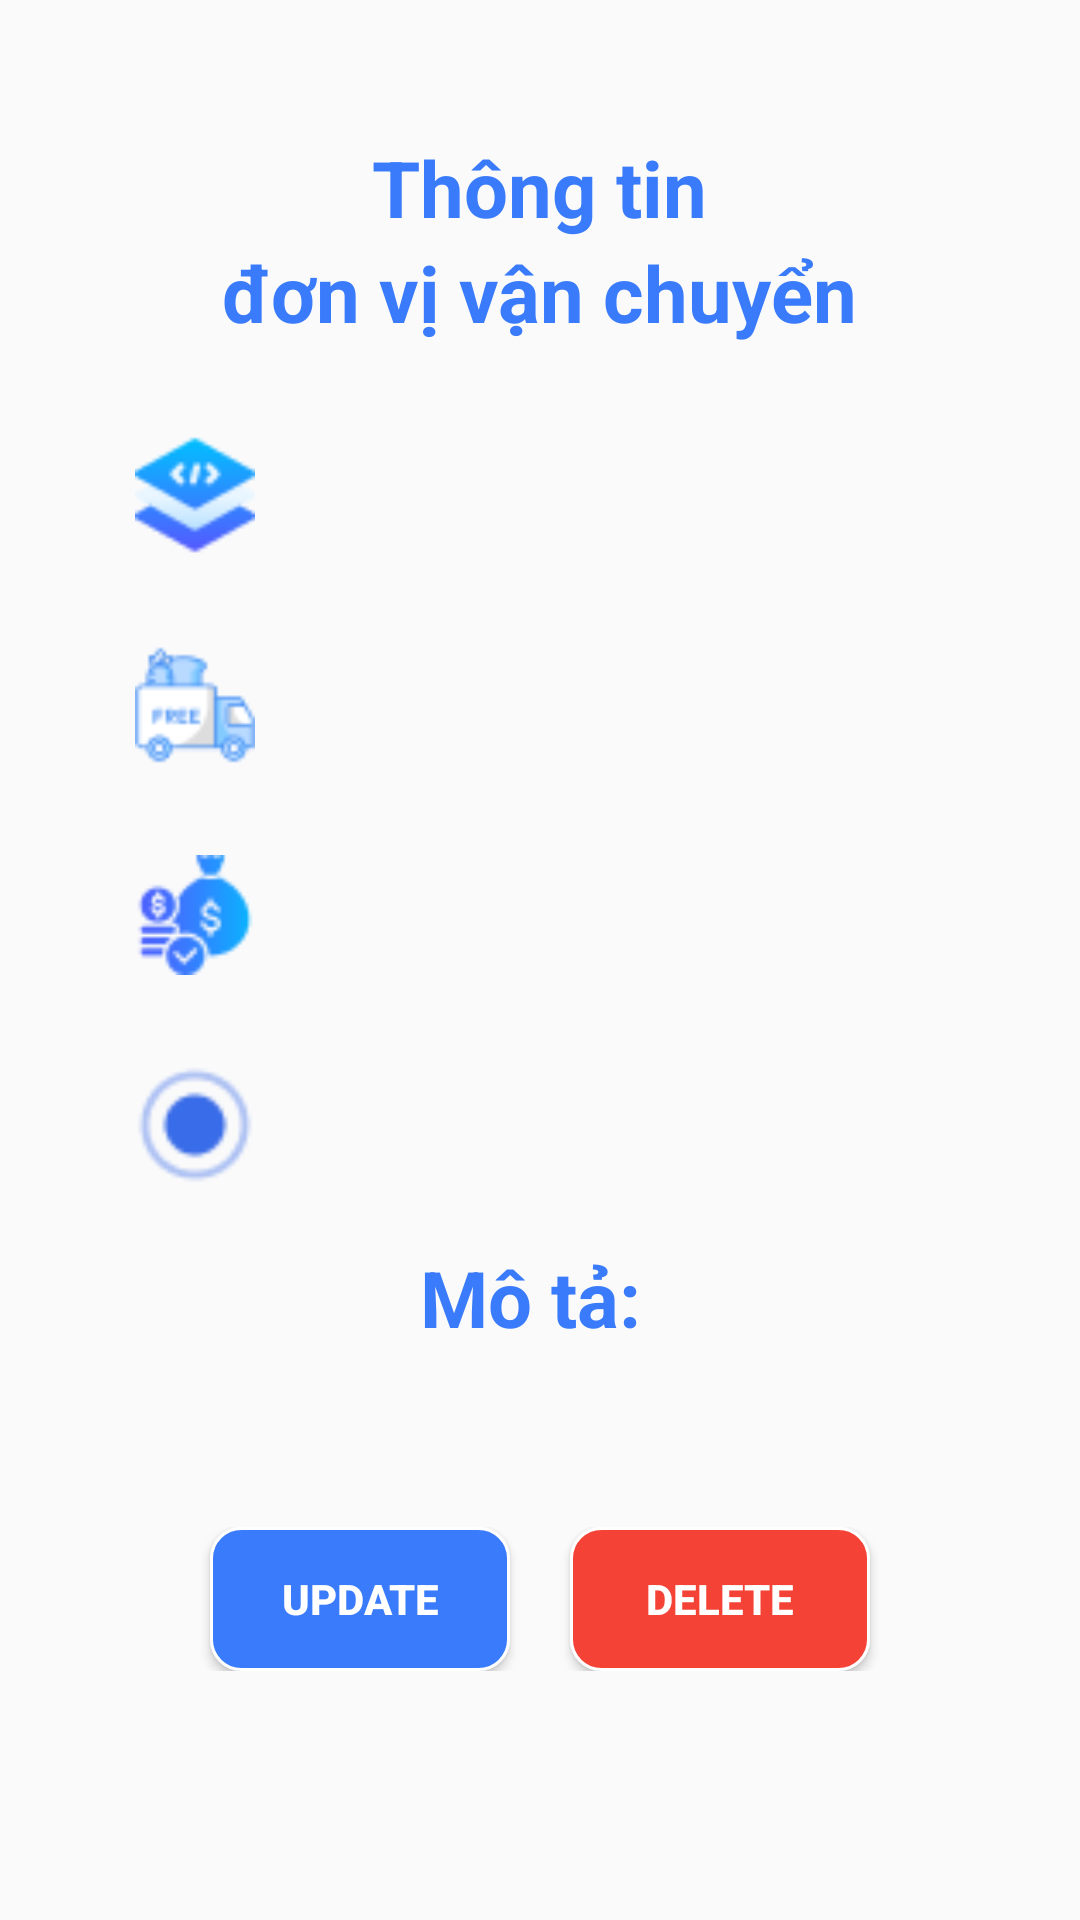

Where icons sit on this 1080 × 1920 app screen, as (x1, y1, x2, y2):
trangthai: (140, 1070, 250, 1180)
